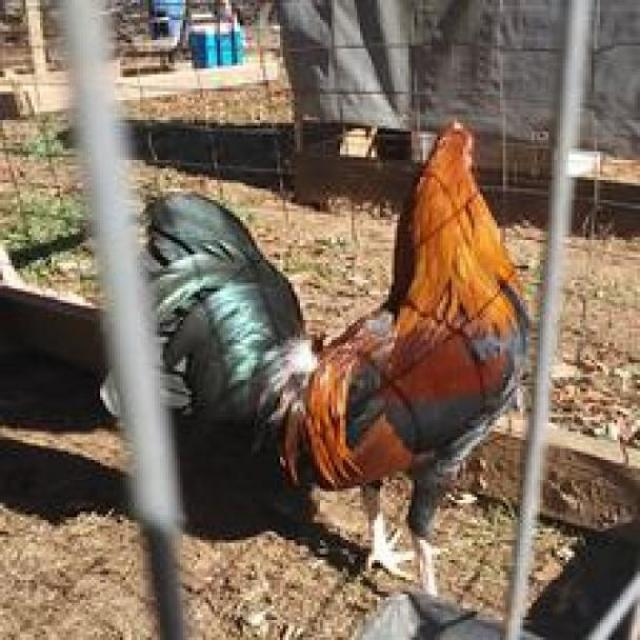Chicken: (116, 126, 554, 610)
